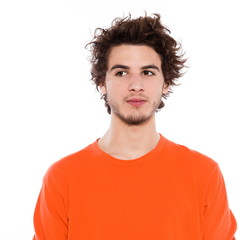young: (81, 10, 185, 120)
